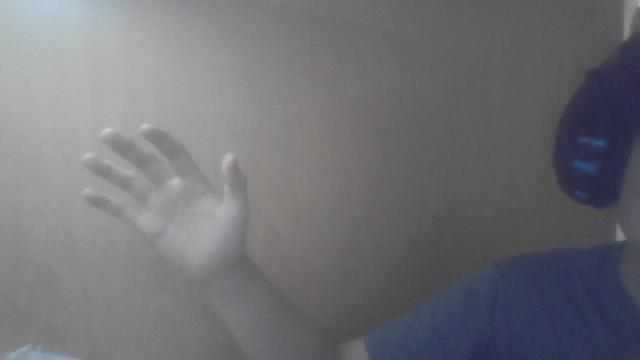Stop: (80, 126, 274, 280)
